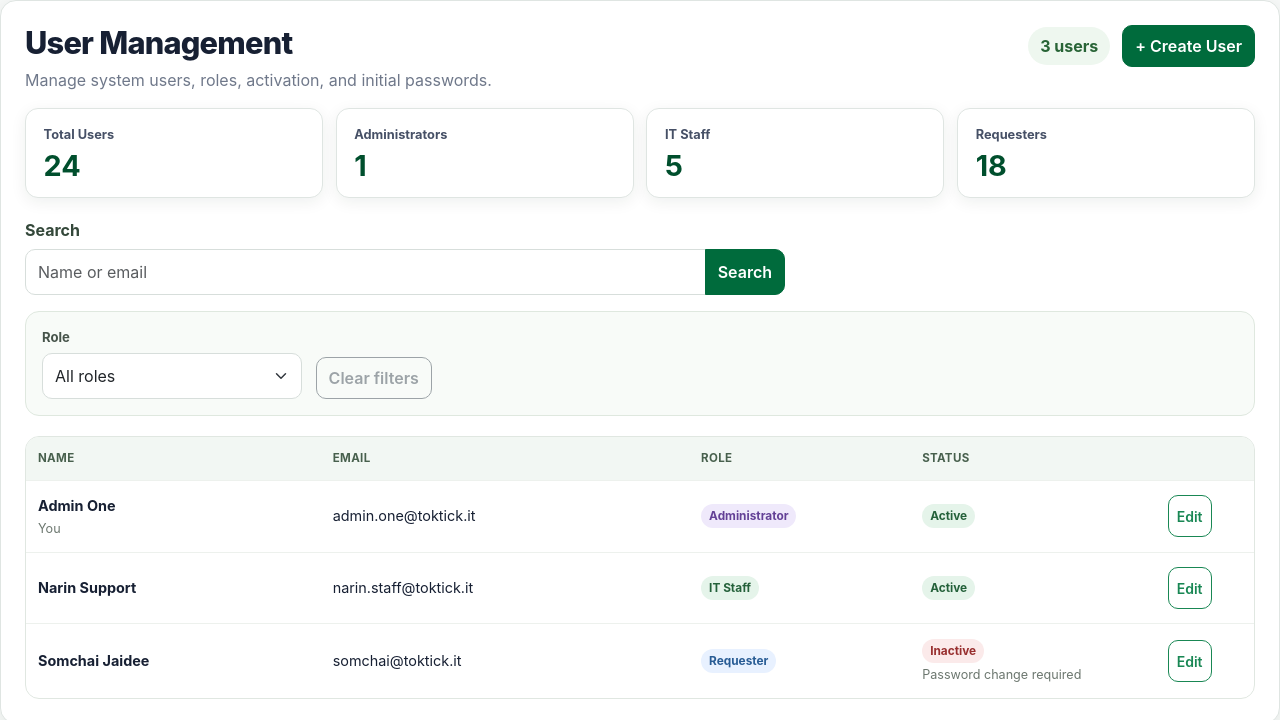
Test: Lab 3 Administrator User Management › UI-ADM-04: create validates input and shows duplicate-email feedback
Click the button "+ Create User".
click(1189, 46)  # box [1122,25,1255,67]
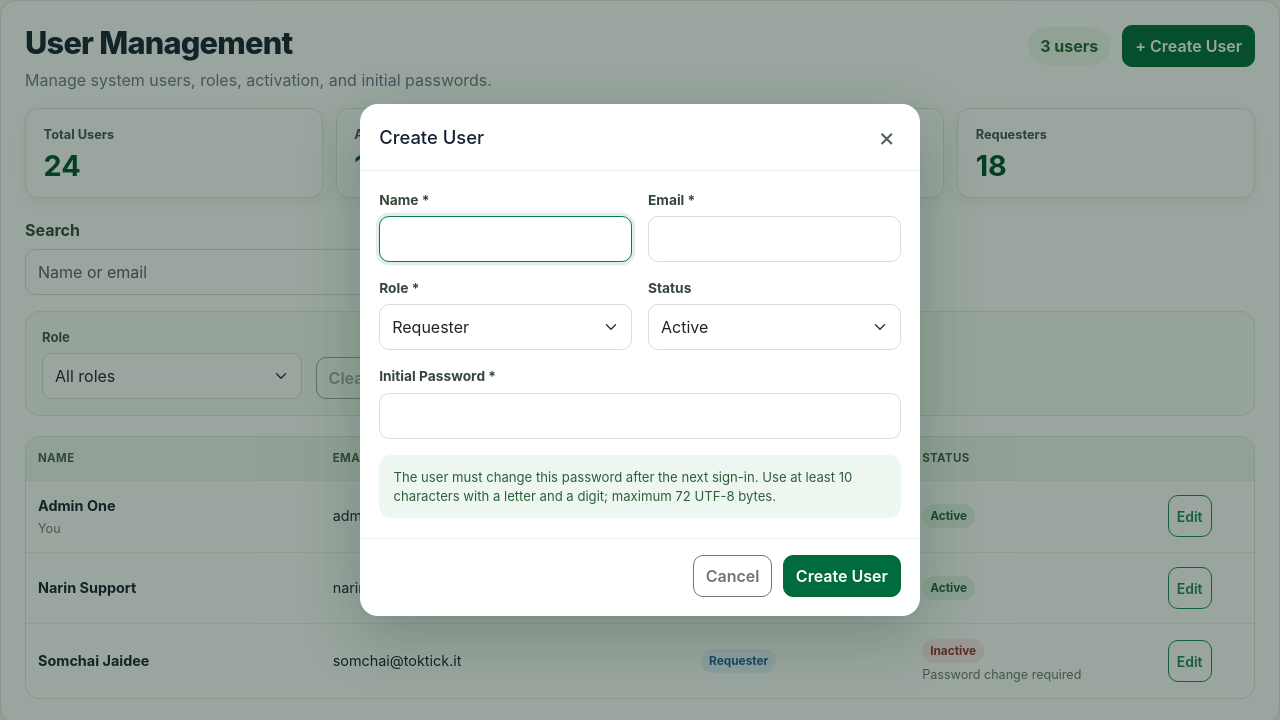
Click the button "Create User".
click(842, 576)  # box [783,554,901,596]
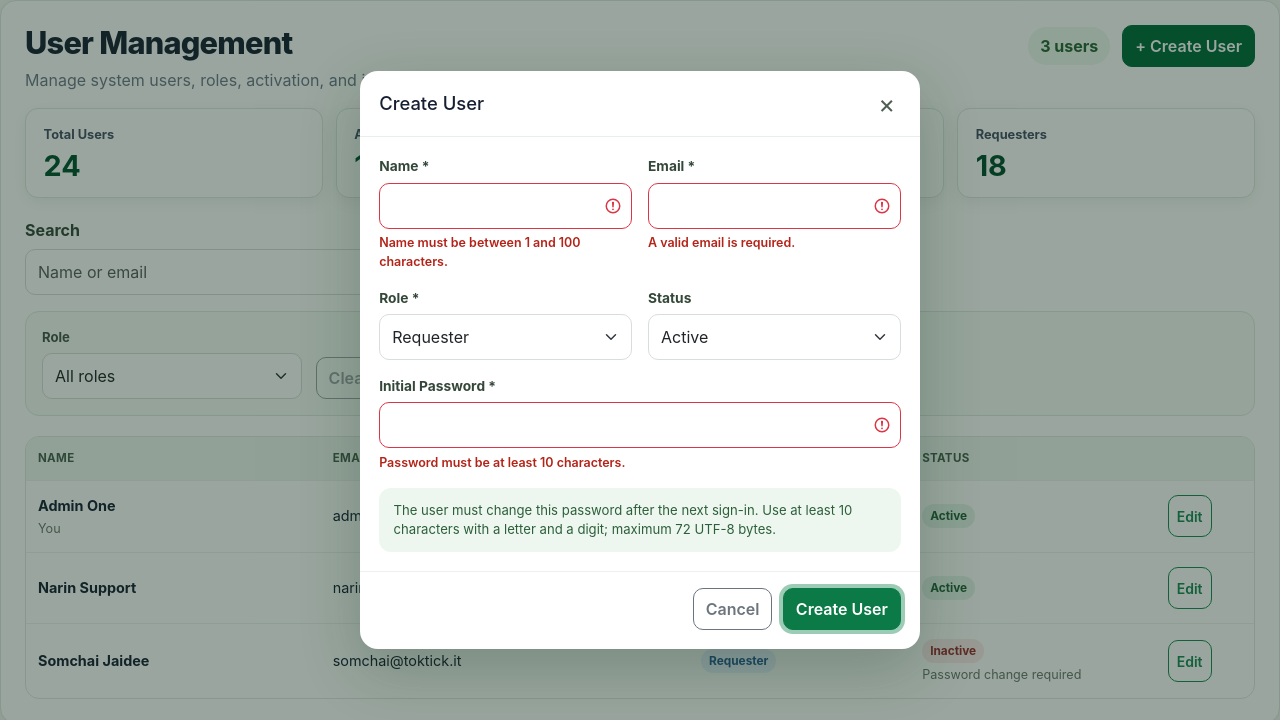
Expected: the text "Name must be between 1 and 100 characters." is shown, [379,235,580,269]
Type "Duplicate User" into the field labelled "Name * Name must be between 1 and 100 characters.".
click(506, 206); type("Duplicate User")  # box [379,183,632,229]
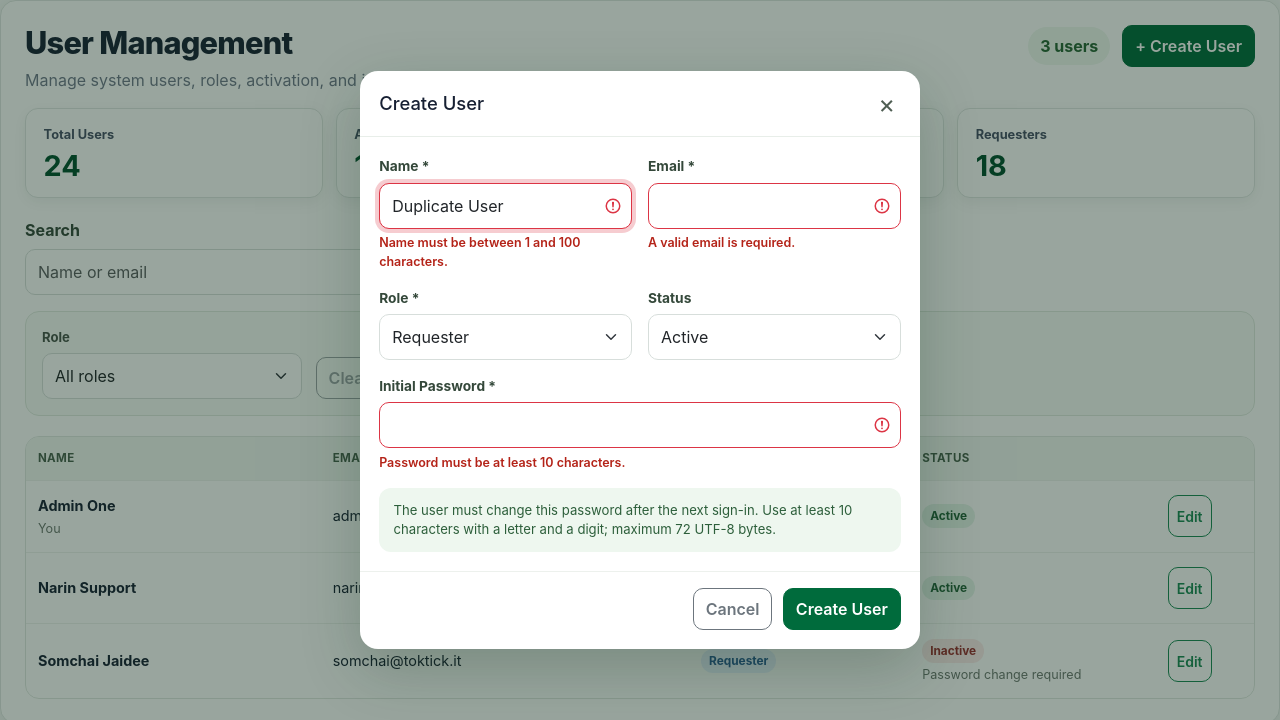
Type "admin.one@toktick.it" into the field labelled "Email * A valid email is required.".
click(774, 206); type("admin.one@toktick.it")  # box [648,183,901,229]
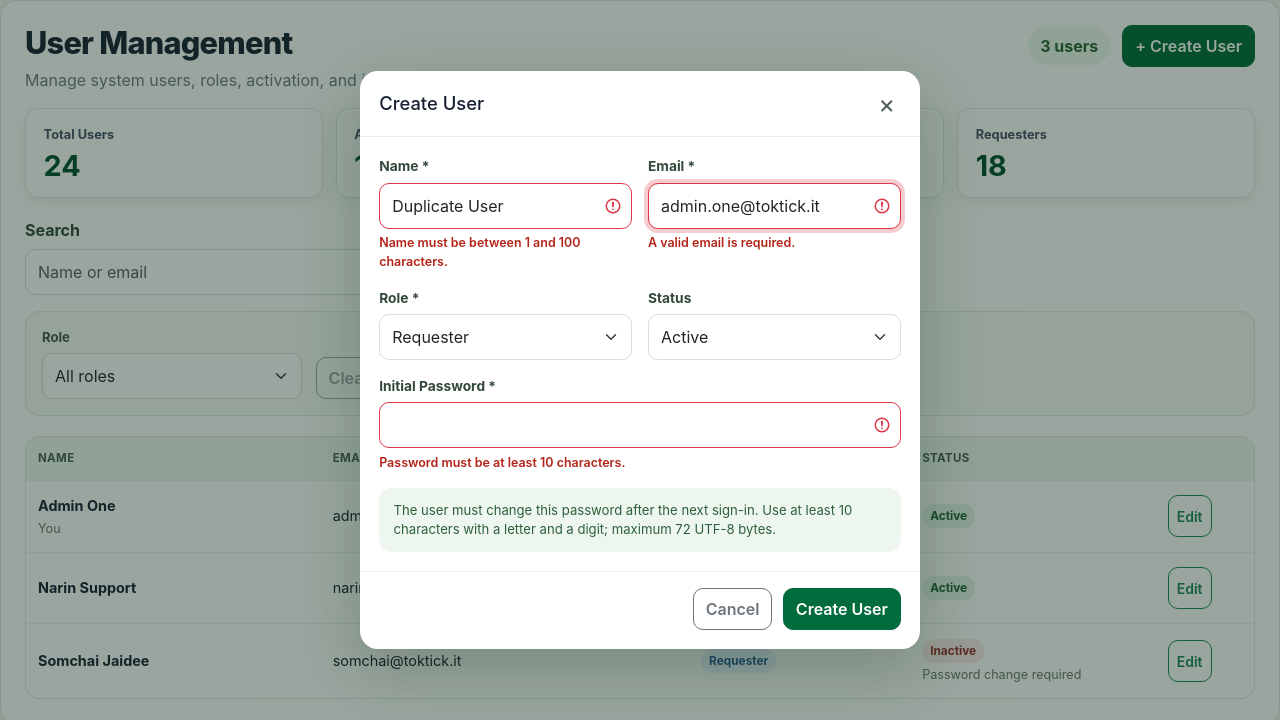
Type "Initial1234" into the password field labelled "Initial Password * Password must be at least 10 characters.".
click(640, 425); type("Initial1234")  # box [379,402,901,448]
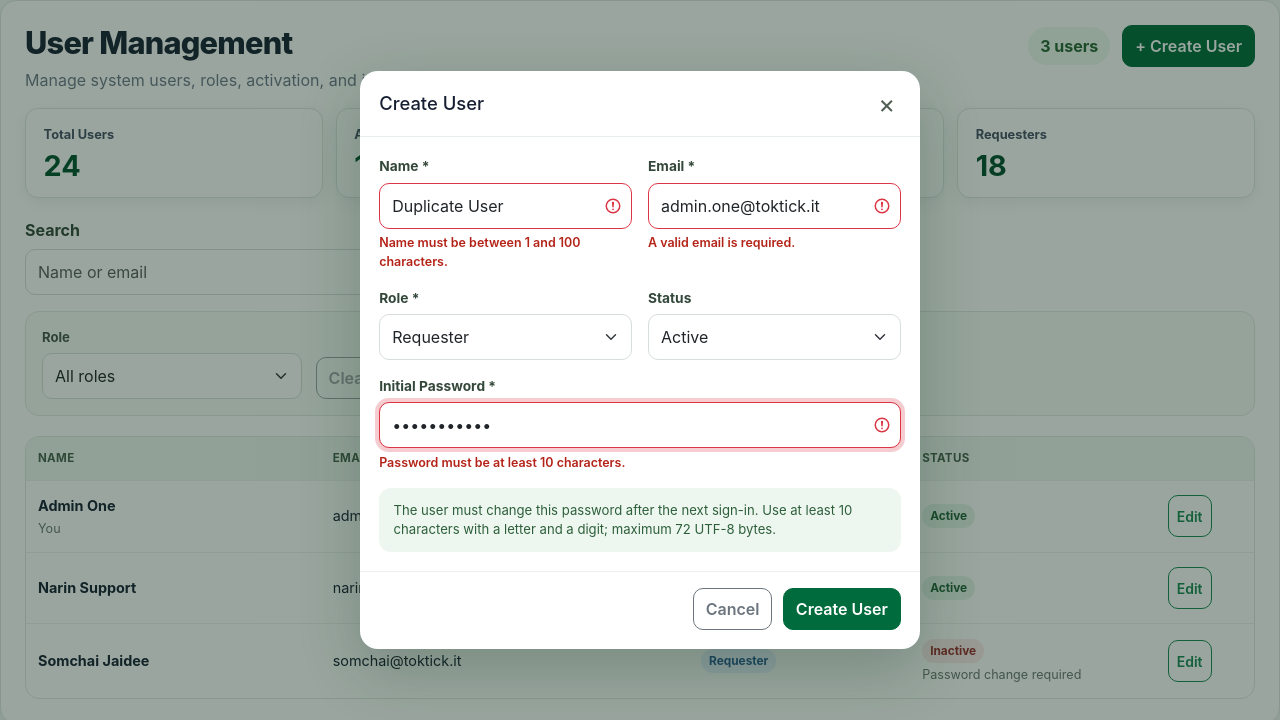
Click the button "Create User".
click(842, 609)  # box [783,588,901,630]
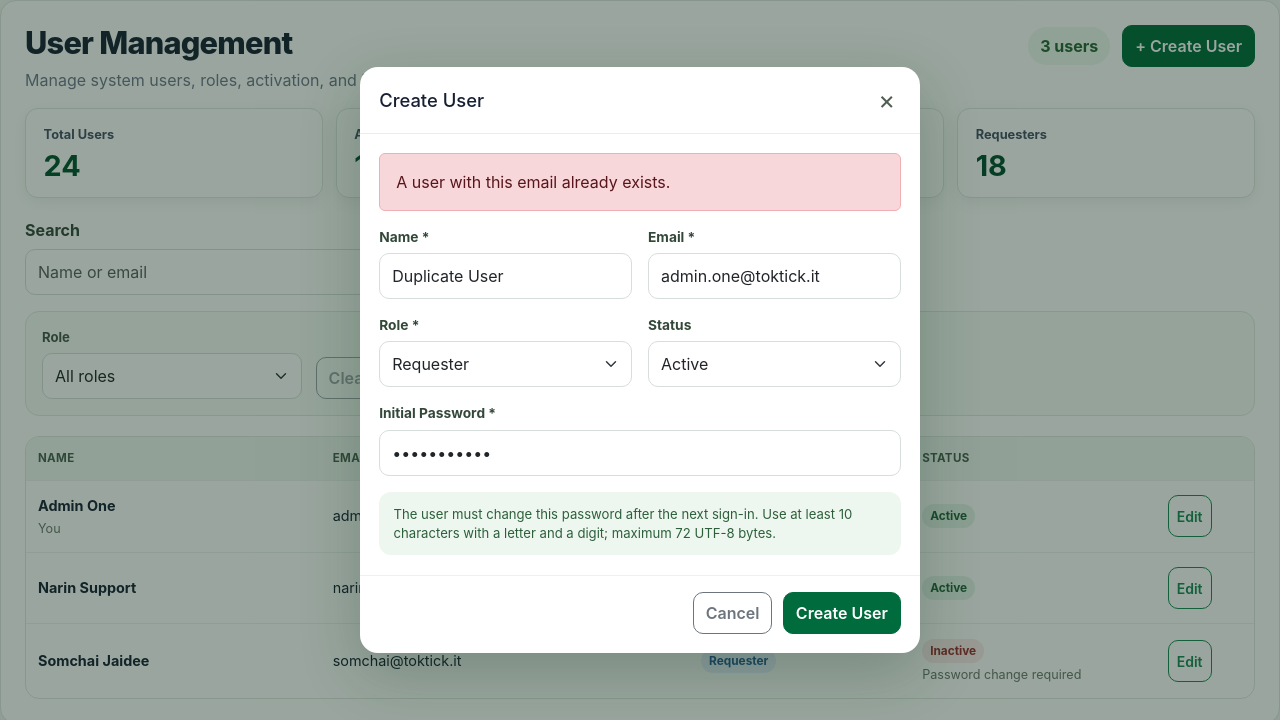
Expected: the message shows "already exists", [396,172,670,192]
